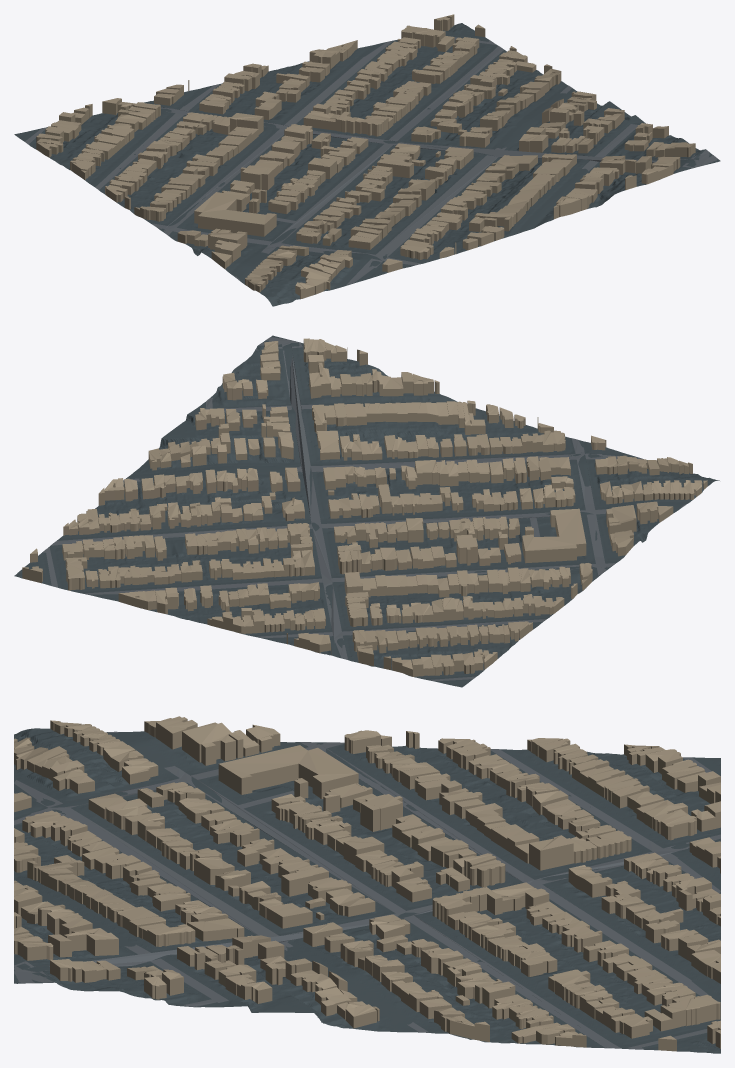
The model's file is epsg26910-1442-10875.lod0.glb.
3 views of the same model, one above another, from view 1: azimuth 30°, elevation 25°; view 2: azimuth 150°, elevation 25°; view 3: azimuth 270°, elevation 25° (orthographic). The views are drawn at different scales.
Parts seen in each view (by area): view 1: epsg26910-1442-10875-lod0; view 2: epsg26910-1442-10875-lod0; view 3: epsg26910-1442-10875-lod0.
Part boxes in pixels (x1,y1,x2,y2): epsg26910-1442-10875-lod0: (14,14,720,306); epsg26910-1442-10875-lod0: (14,335,719,687); epsg26910-1442-10875-lod0: (14,716,720,1053).
Size of the model in its own units: 384 by 52.32 by 384.
